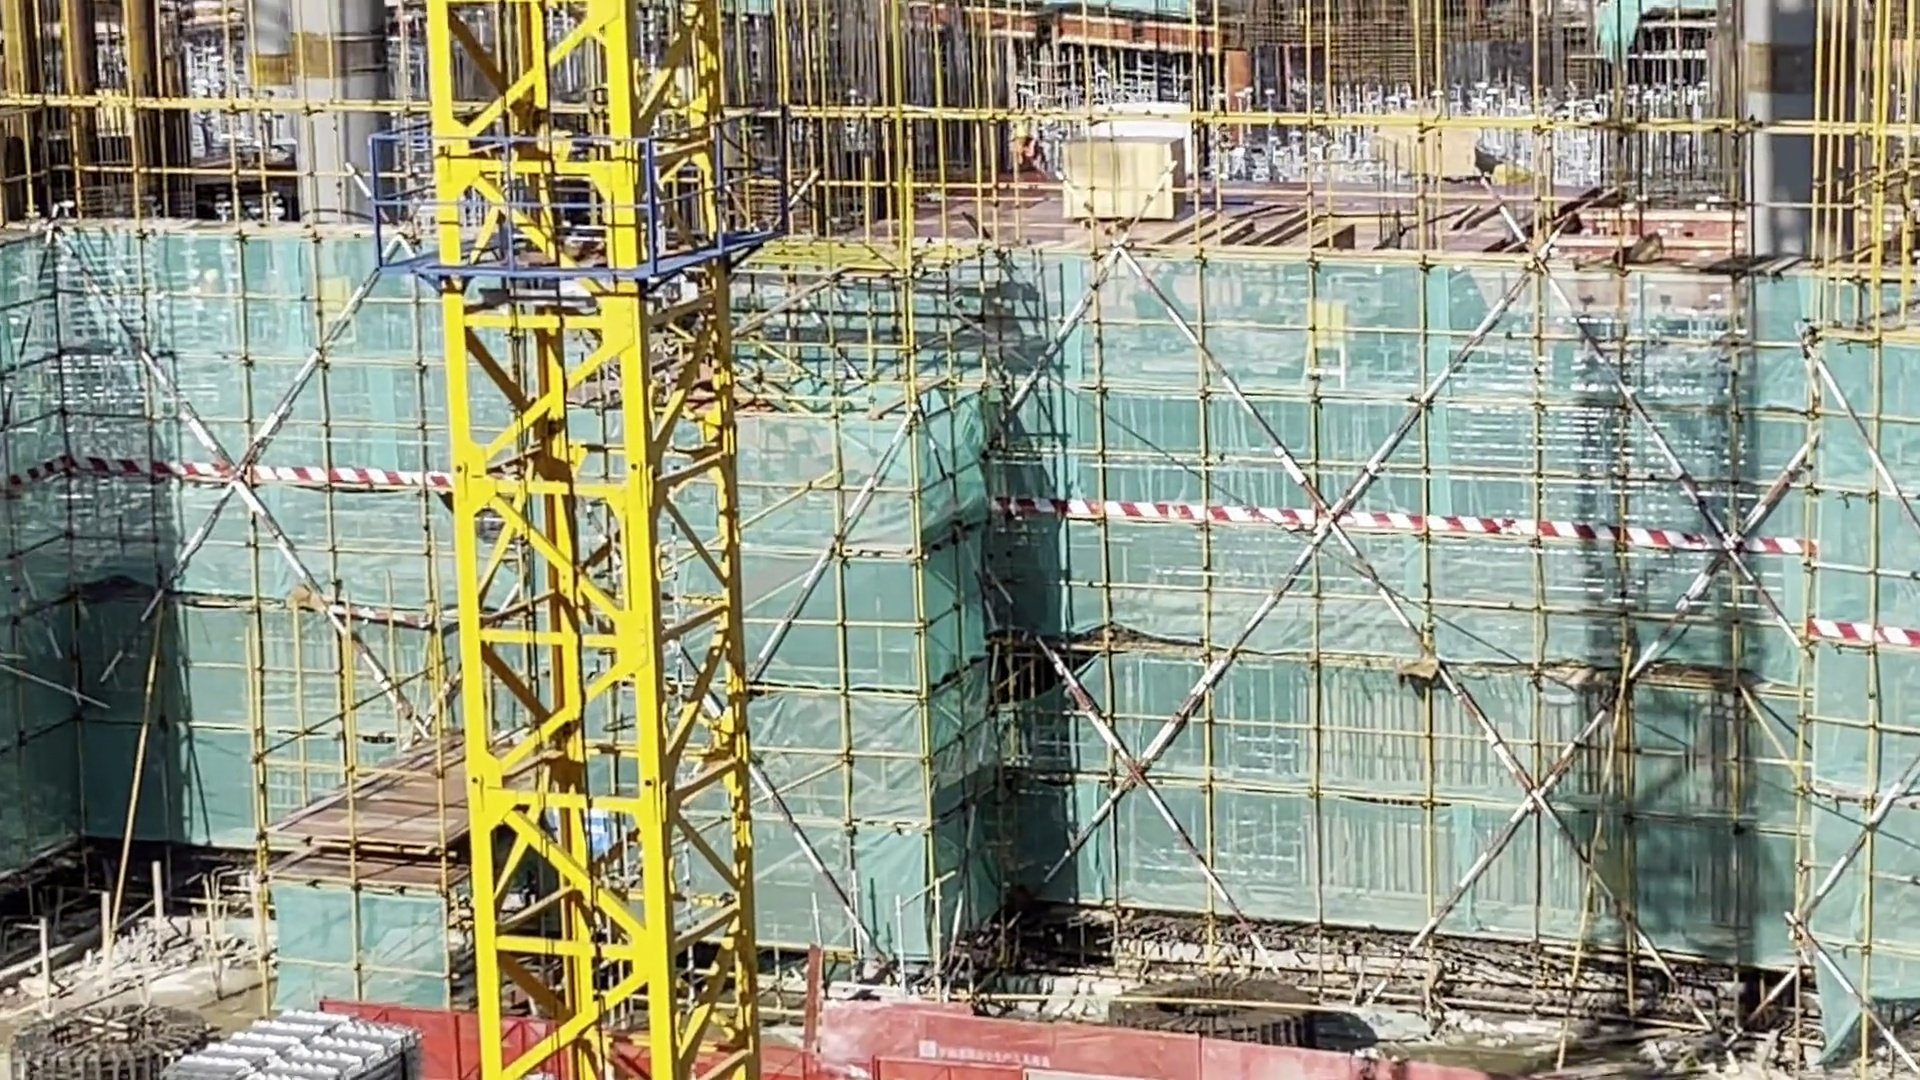fence: (761, 1007, 1495, 1080)
scaffold: (165, 1015, 409, 1080)
